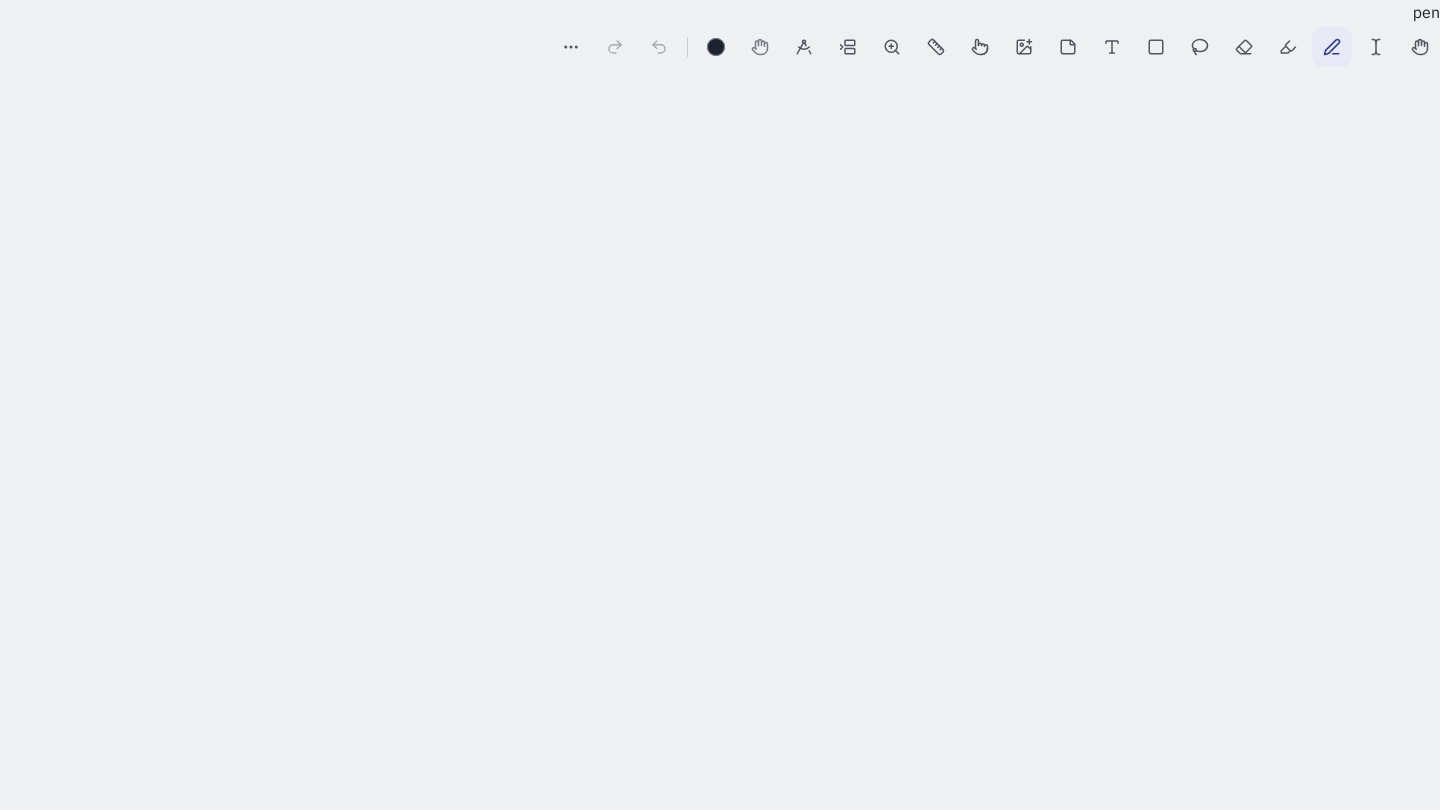
Test: G02 palm rejection › the test pad counts rejected touches and stray marks; the capability row states the values in force
Click the button named "المزيد من أدوات الكتابة" at (571, 47), box [551,27,591,67]
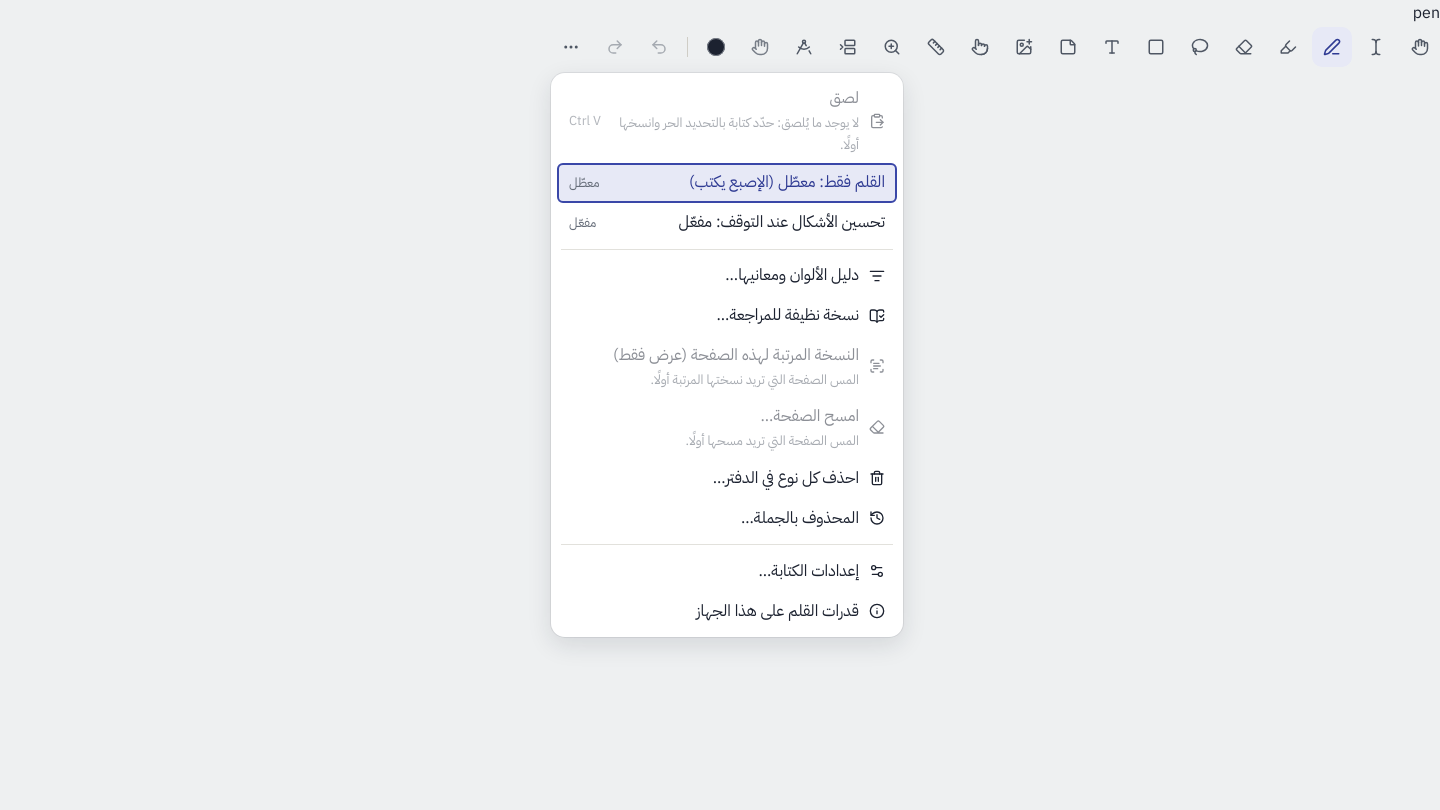
Click the menu item "إعدادات الكتابة…" at (822, 570), box [758,558,885,582]
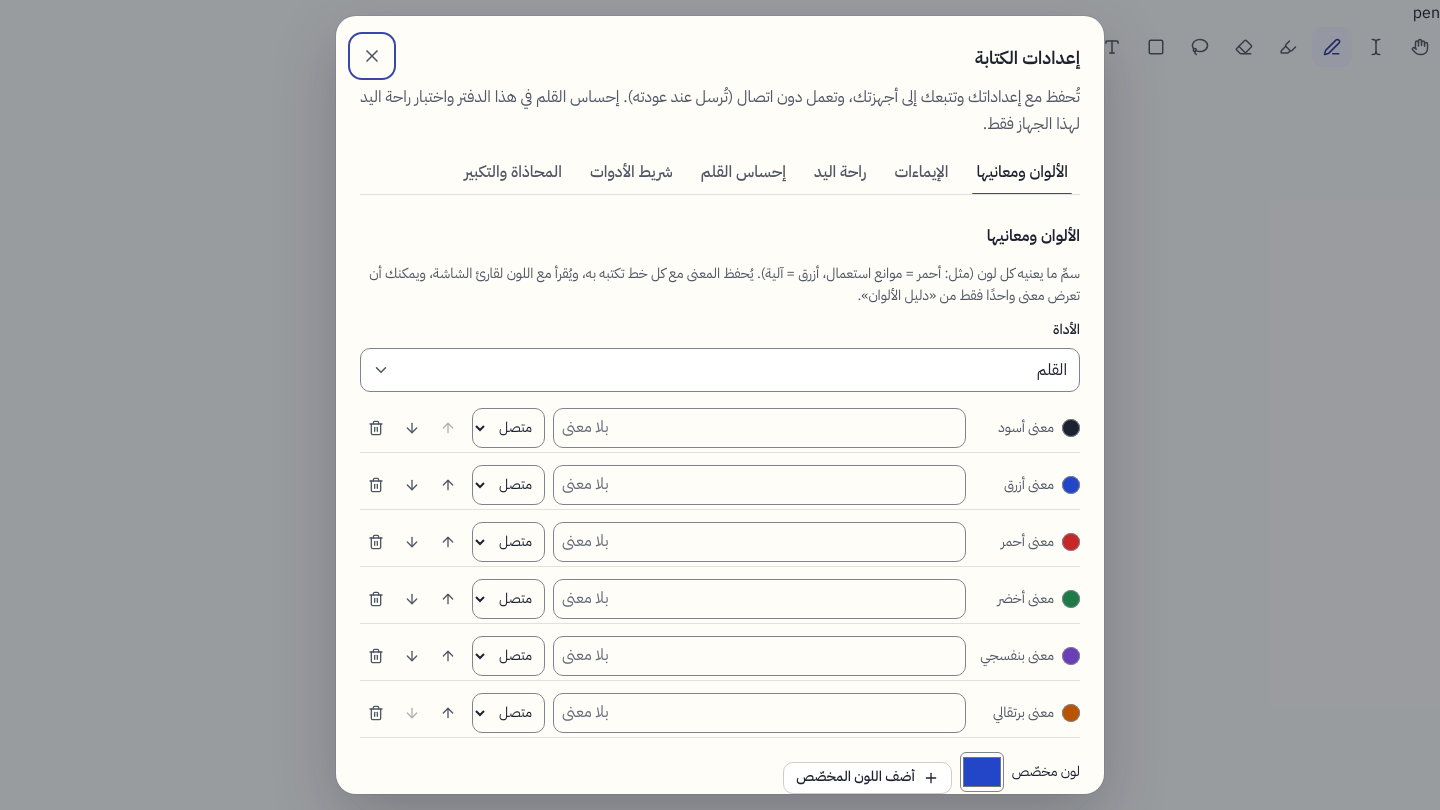
Click the tab "راحة اليد" at (840, 172), box [802,150,878,194]
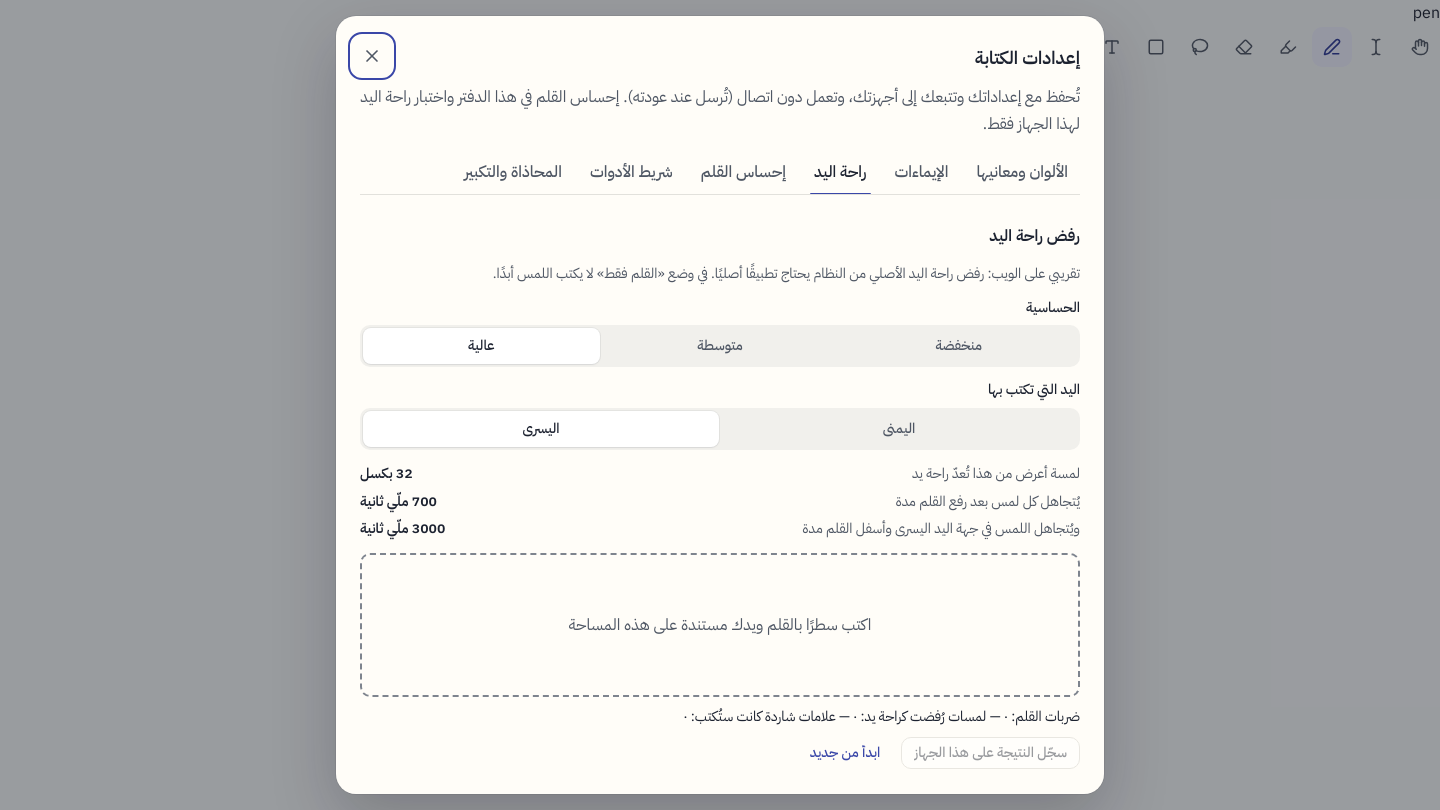
Press the mouse on the picture named "مساحة اختبار راحة اليد" at (720, 625), box [360,553,1080,697]
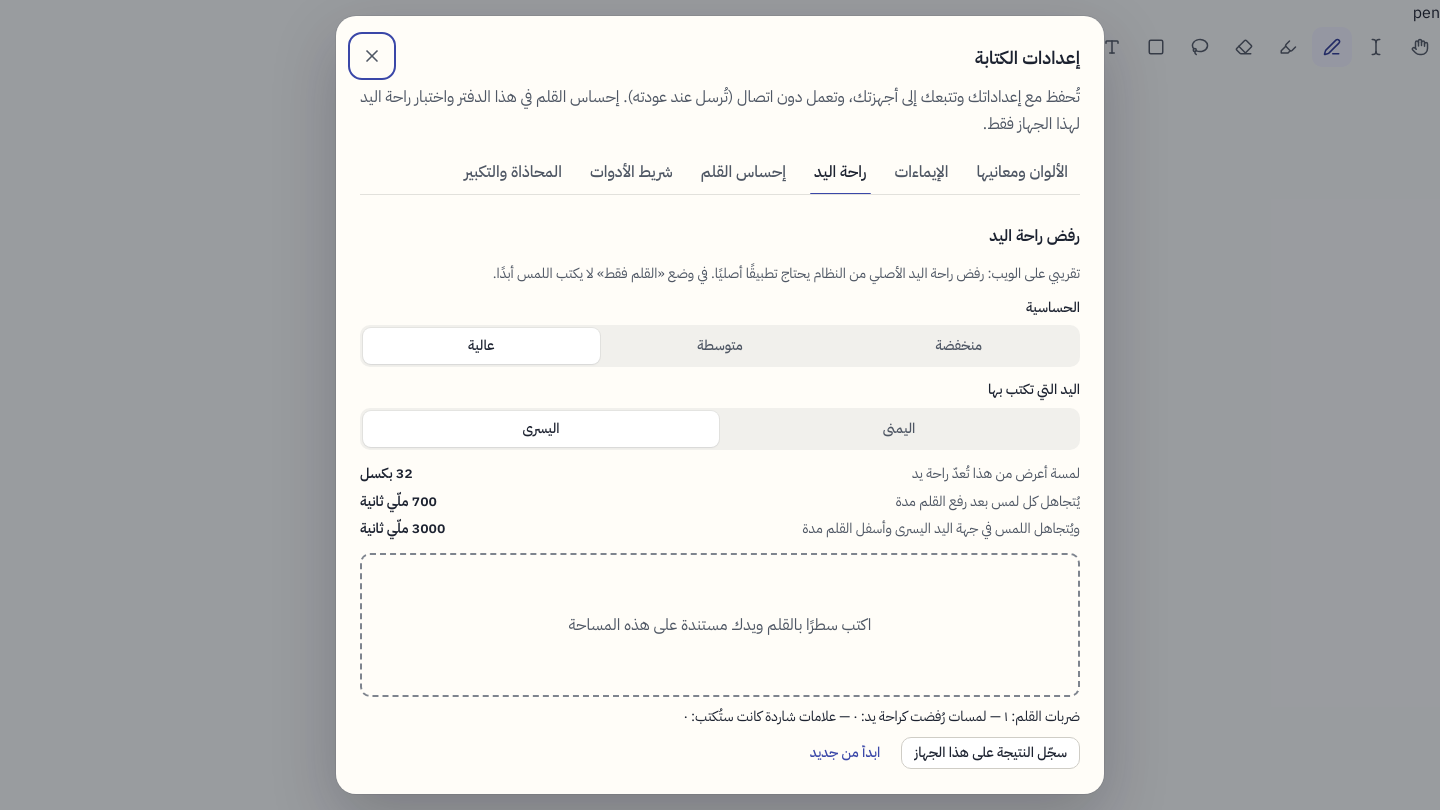
Press the mouse on the picture named "مساحة اختبار راحة اليد" at (720, 625), box [360,553,1080,697]
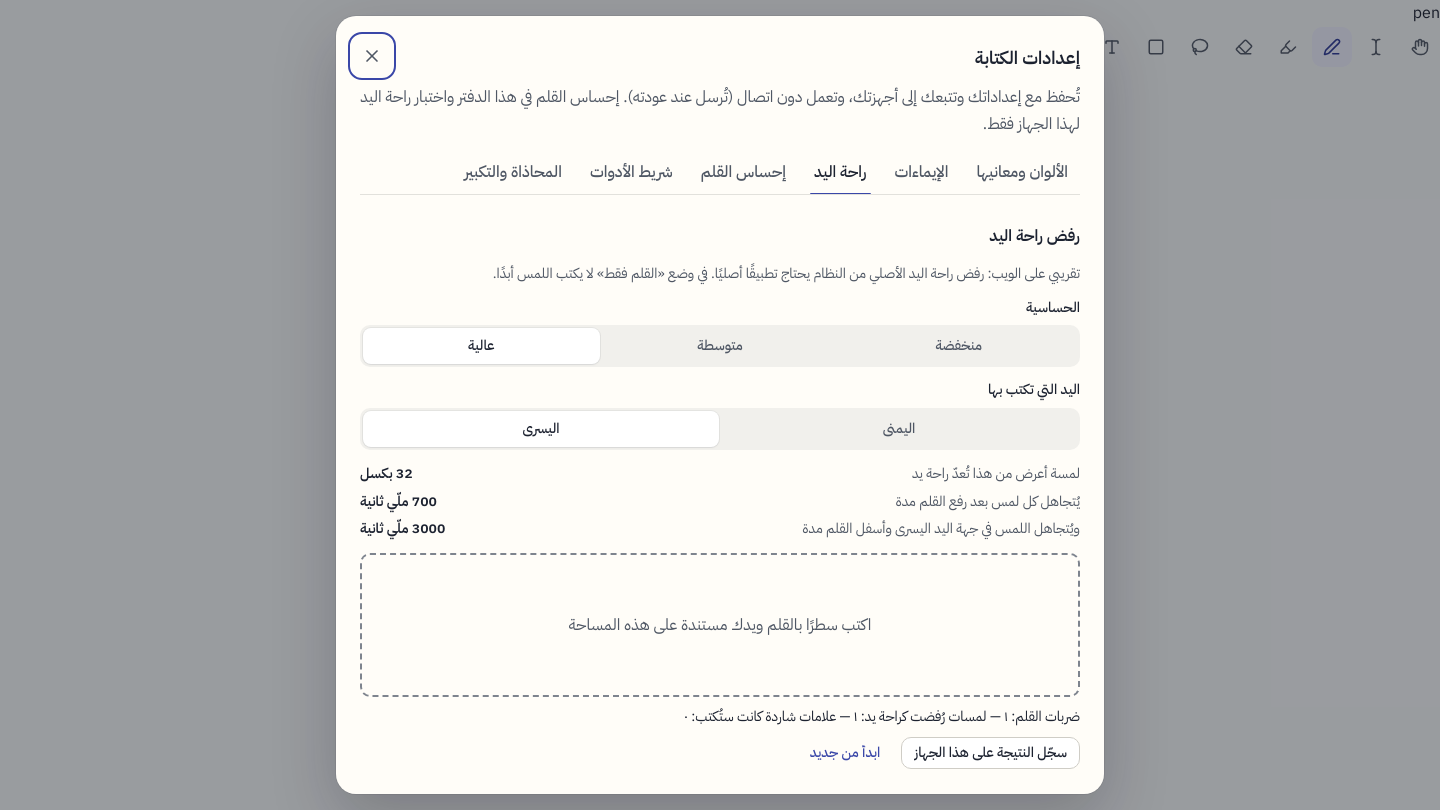
Now the message reads "ضربات القلم: ١ — لمسات رُفضت كراحة يد: ١ — علامات شاردة كانت ستُكتب: ٠", box [684,706,1080,727]
